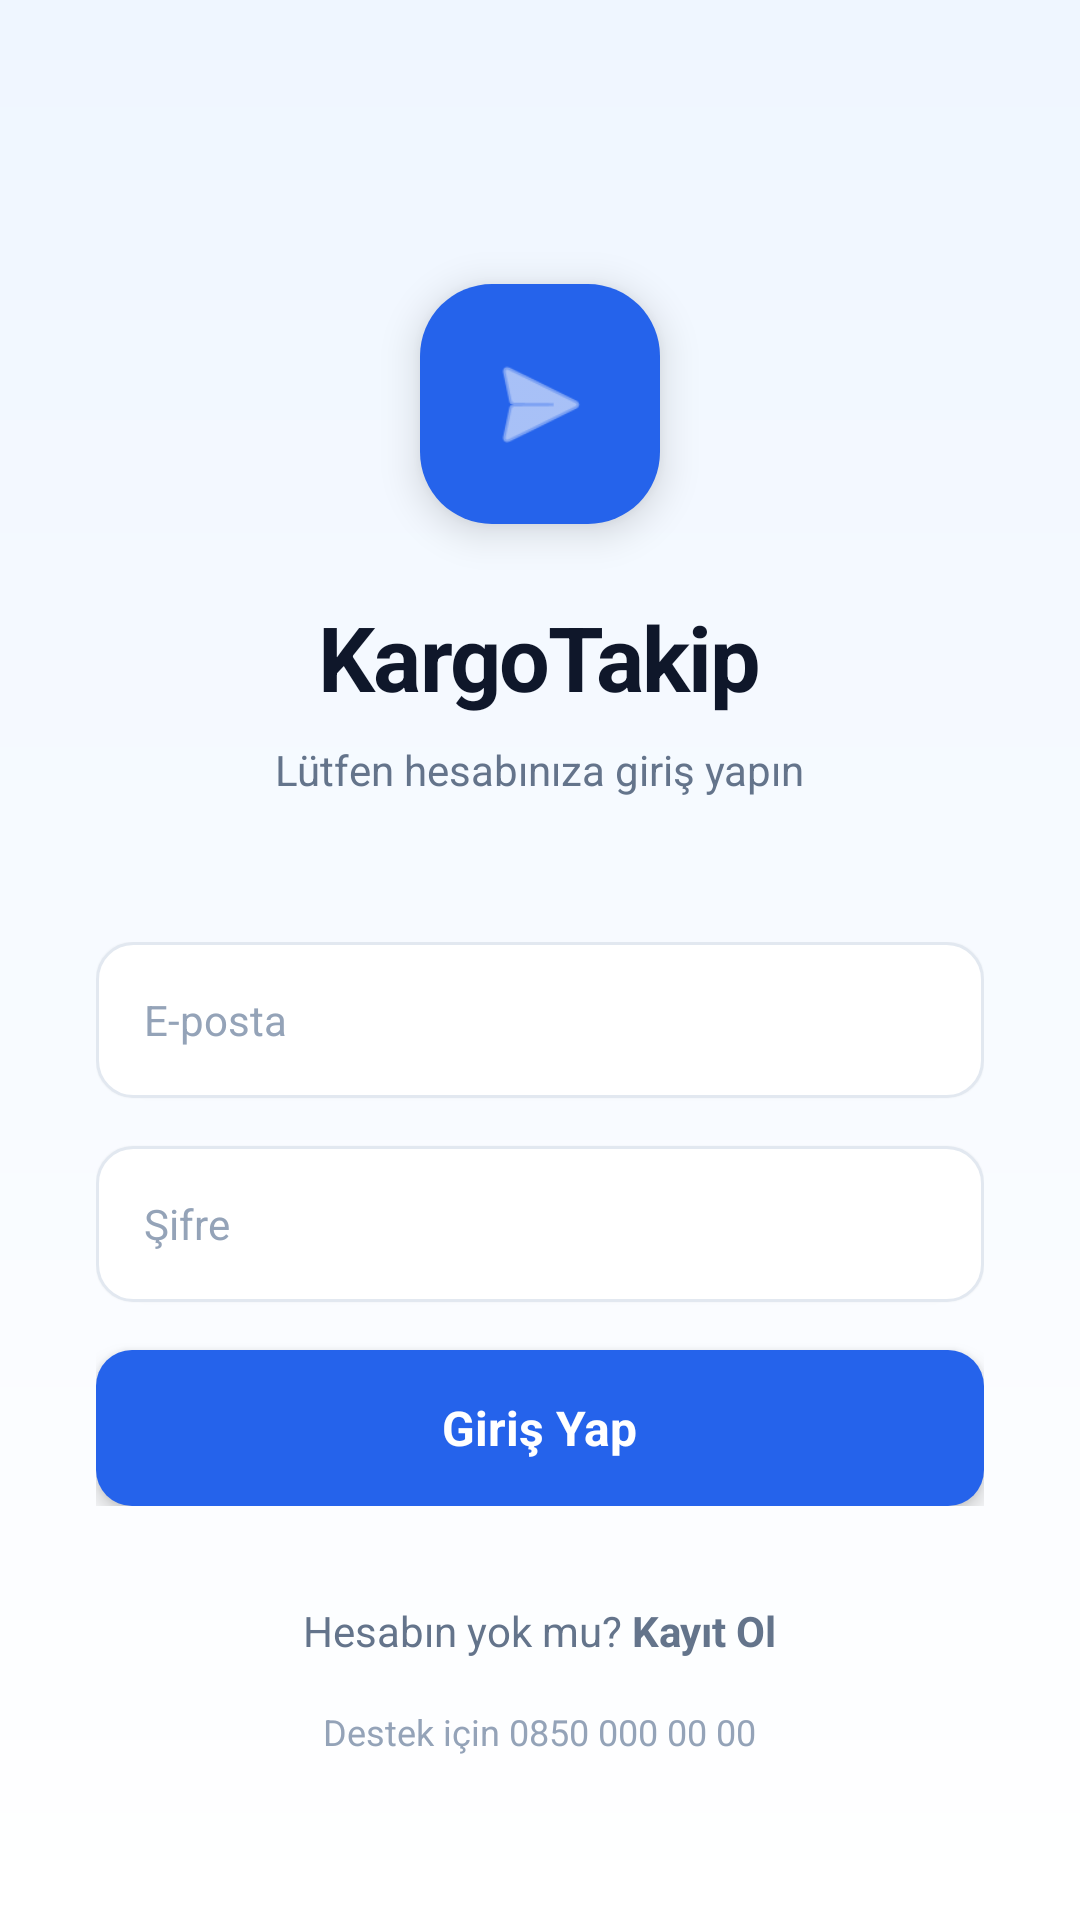

Where icons sit on this 1080*1920 app screen, as detection(x1, y1, x2, y2):
send: detection(503, 367, 579, 443)
